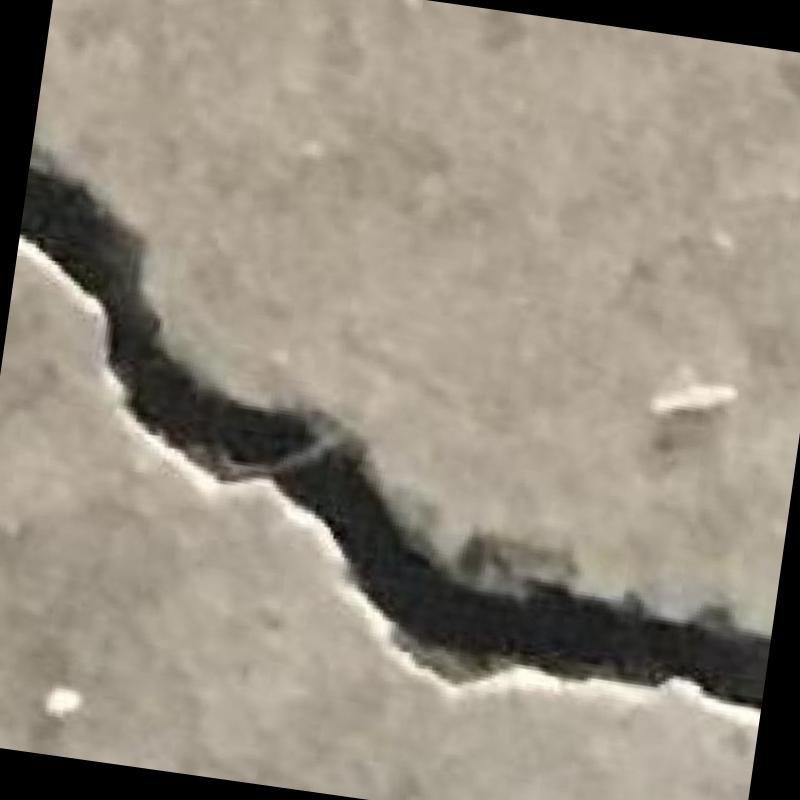pothole: (19, 146, 767, 708)
